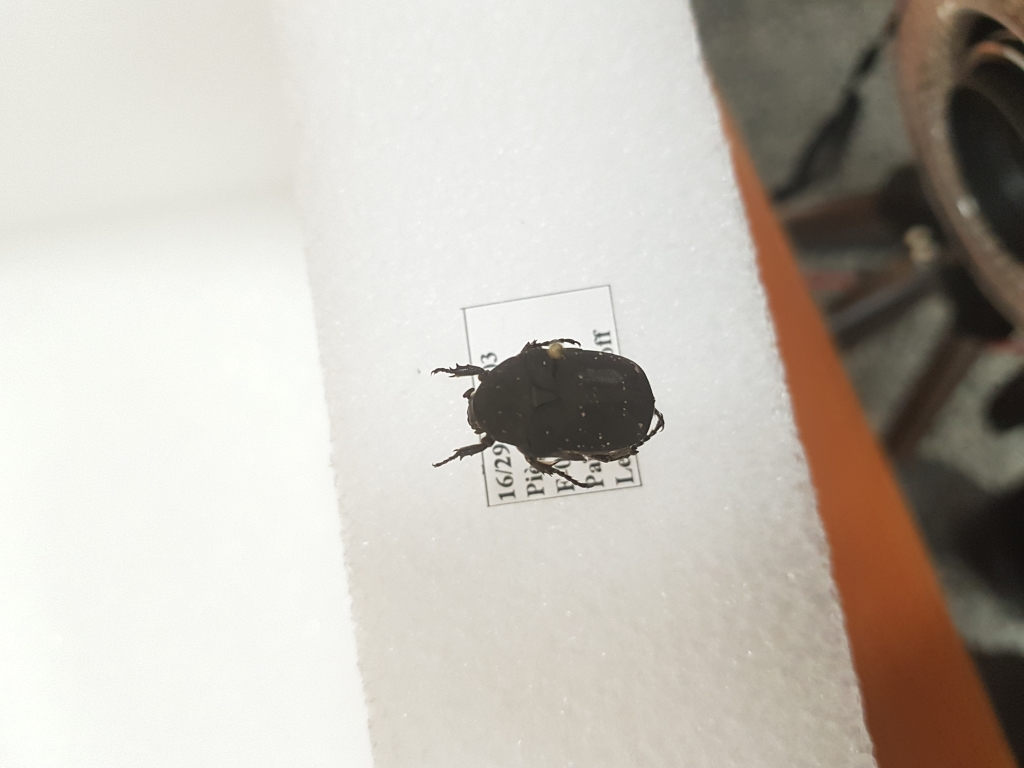Protaetia_morio_morio: (429, 333, 665, 480)
